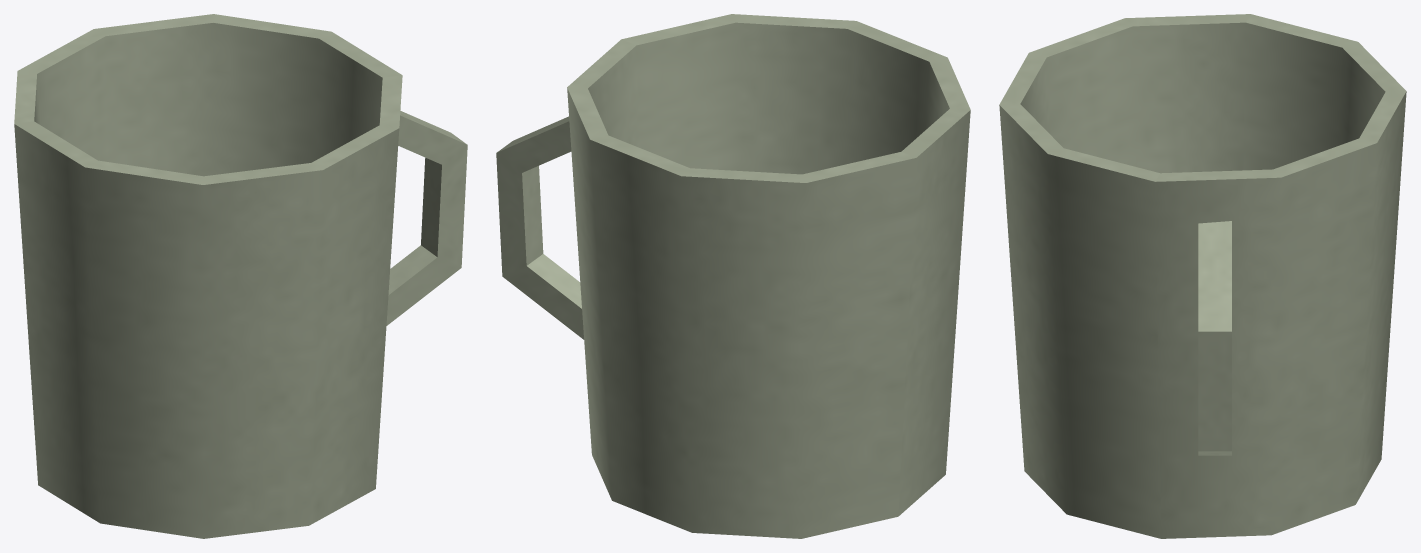
File: Cup_1.fbx
3 renders of one model, left to right at view 1: azimuth 30°, elevation 25°; view 2: azimuth 150°, elevation 25°; view 3: azimuth 270°, elevation 25°, orthographic.
Visible parts, largest first — view 1: polySurface1539; view 2: polySurface1539; view 3: polySurface1539.
Part boxes in pixels (left/top/right/bottom): polySurface1539: left=14, top=14, right=467, bottom=538; polySurface1539: left=496, top=14, right=970, bottom=538; polySurface1539: left=999, top=14, right=1406, bottom=538.
Bounding box in the file's own units: 0.2438 × 0.1985 × 0.1994.
